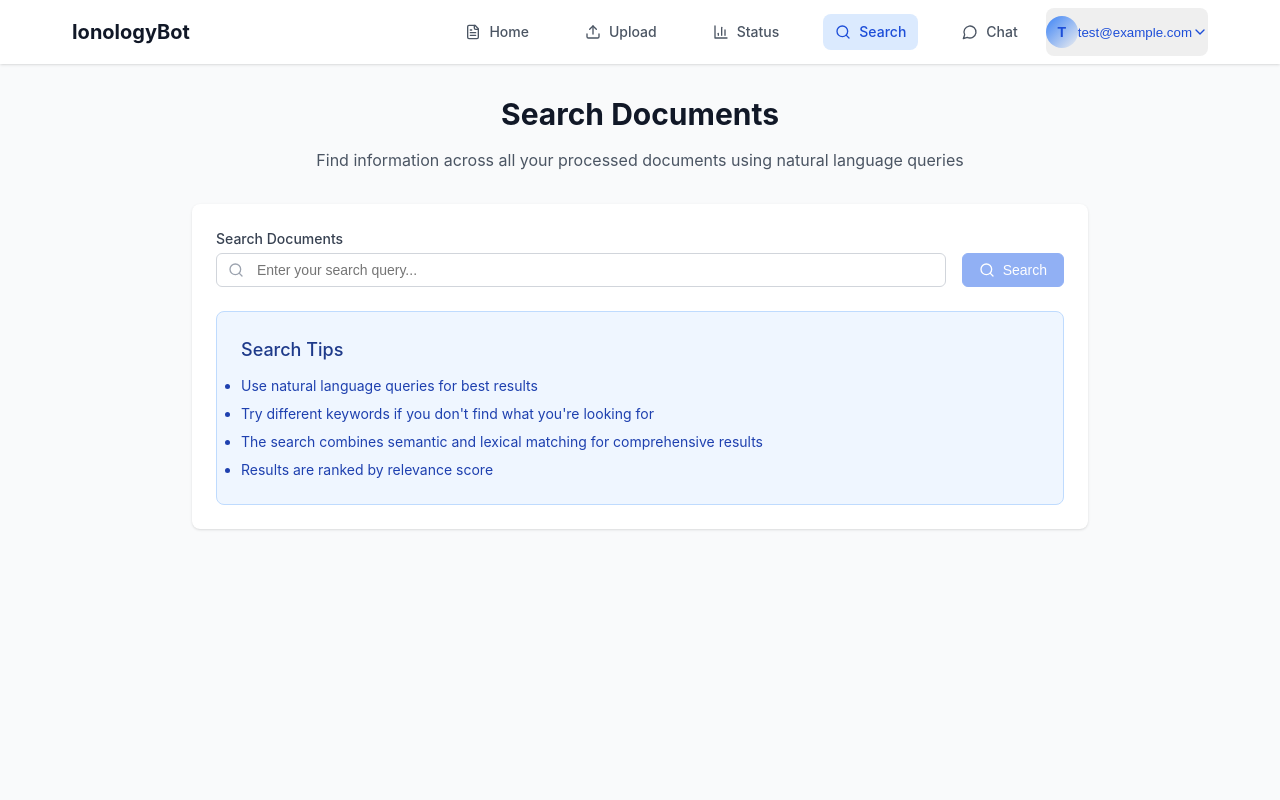
Test: Upload to Search Integration › handles search error gracefully
# Perform search directly since we're already on search page
In the field labelled "Search Documents": (581, 270) [216,253,946,287], type "test query"
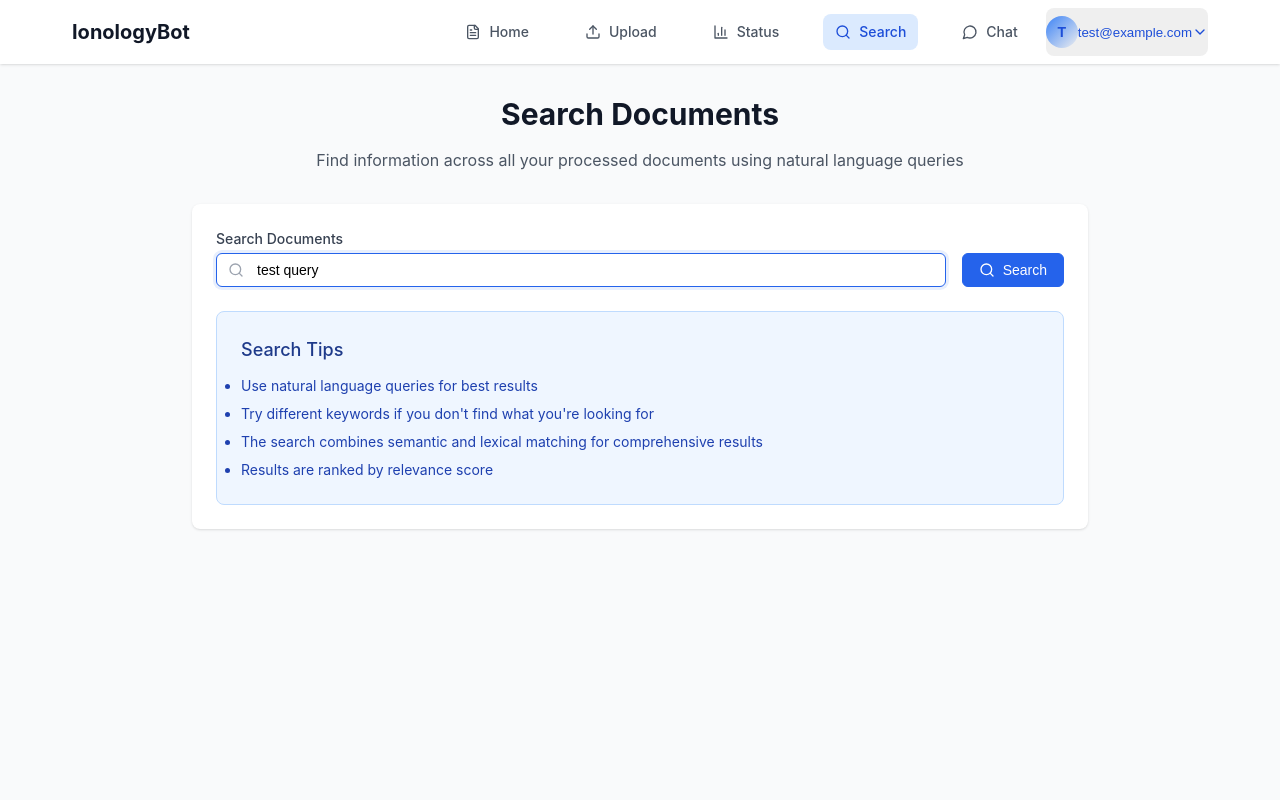
Click the button "Search": (1013, 270) [962,253,1064,287]
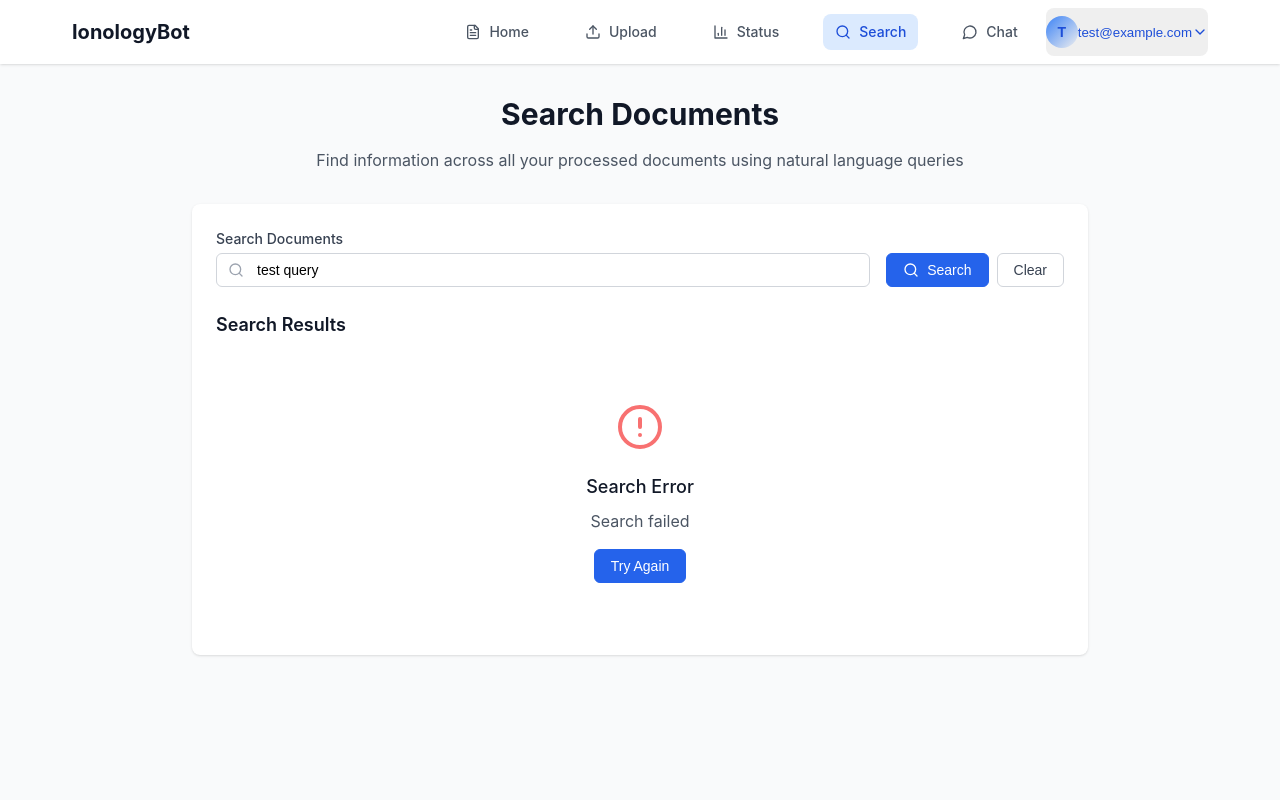
Expected: the heading "Search Error" is shown, [586,476,694,497]
Expected: the text "Search failed" is shown, [590,511,690,531]
